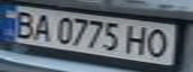0: (51, 15, 75, 45)
5: (103, 19, 127, 53)
7: (84, 17, 106, 50), (69, 16, 90, 47)
A: (30, 11, 54, 43)
B: (6, 8, 39, 39)
H: (124, 24, 151, 56)
O: (142, 27, 172, 58)
